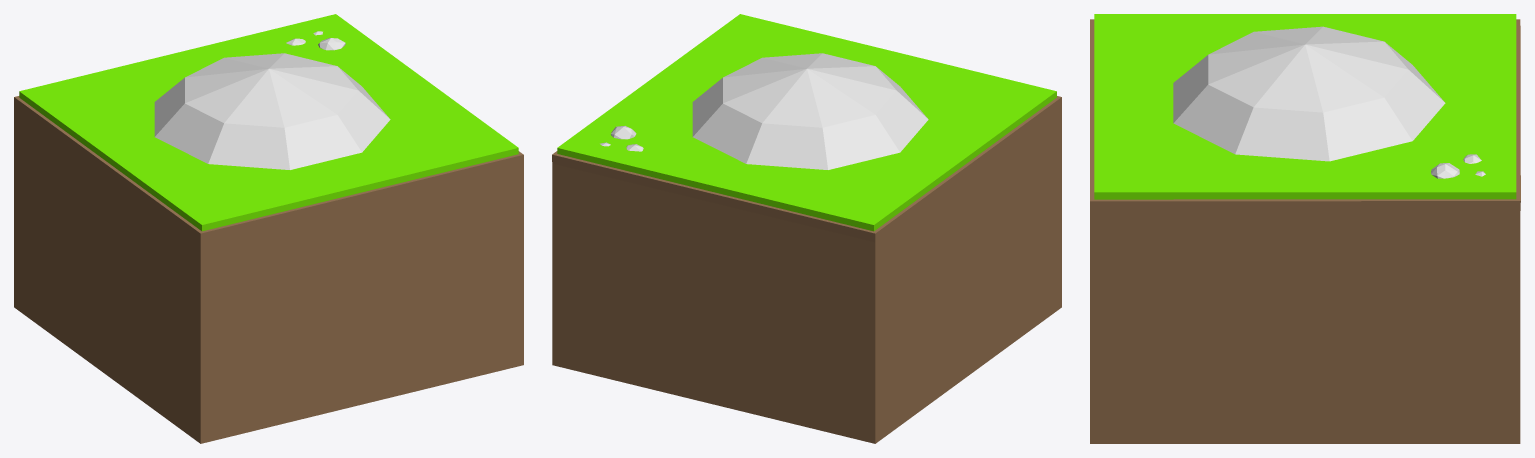
Rendered from Rock_Tile.glb.
3 renders of one model, left to right at view 1: azimuth 30°, elevation 25°; view 2: azimuth 150°, elevation 25°; view 3: azimuth 270°, elevation 25°, orthographic. The views are drawn at different scales.
Parts seen in each view (by area): view 1: Grass, Big Rock; view 2: Grass, Big Rock; view 3: Grass, Big Rock, Tiny Rocks.
Boxes of the visible parts, x1,y1,x2,y2 form: Grass: [14, 14, 523, 443]; Big Rock: [154, 53, 390, 169]; Grass: [552, 14, 1061, 443]; Big Rock: [692, 53, 928, 169]; Grass: [1090, 14, 1520, 443]; Big Rock: [1173, 26, 1445, 161]; Tiny Rocks: [1431, 154, 1485, 178].
Size of the model in its own units: 1 by 0.96 by 1.
